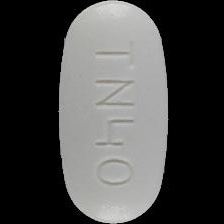69189-2921: (0, 0, 224, 224)
